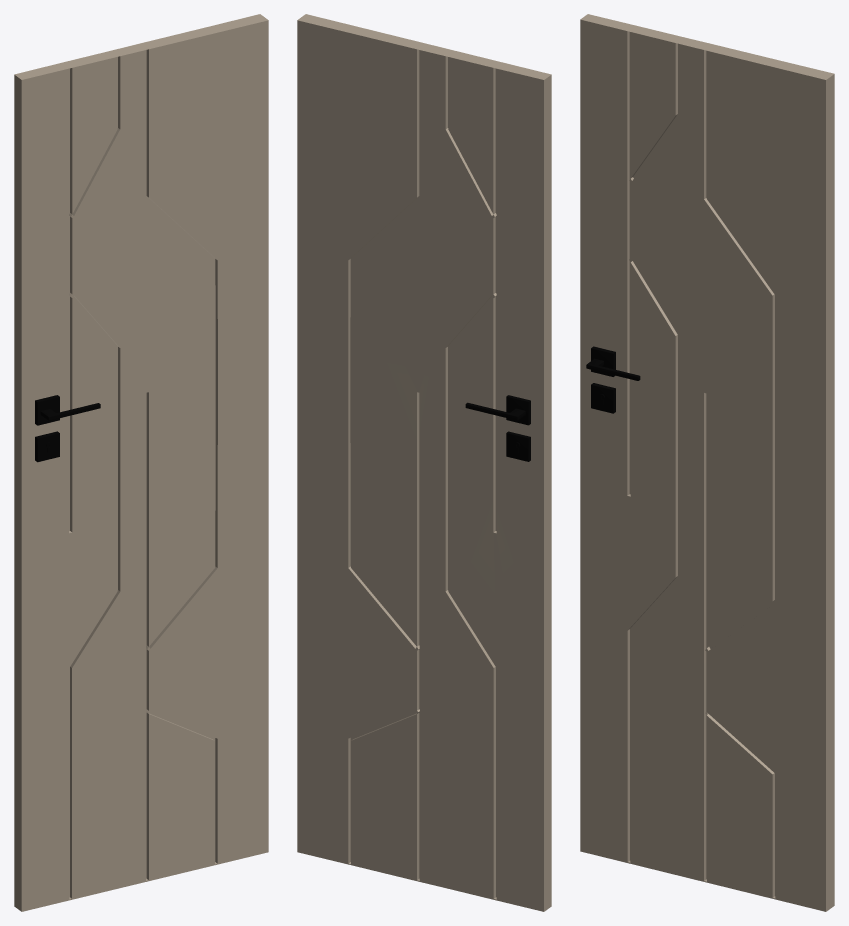
Rendered from RP_2_full2_door.glb.
The picture shows the model from 3 angles, left to right: view 1: azimuth 30°, elevation 25°; view 2: azimuth 150°, elevation 25°; view 3: azimuth 330°, elevation 25°; orthographic projection.
Visible parts, largest first — view 1: RP_2__2_door_.001; view 2: RP_2__2_door_.001; view 3: RP_2__2_door_.001.
Part boxes in pixels (x1,y1,x2,y2): RP_2__2_door_.001: (14,14,268,911); RP_2__2_door_.001: (297,14,551,911); RP_2__2_door_.001: (580,14,834,911).
Bounding box in the file's own units: 0.5515 × 1.78 × 0.1089.
Materials: 1 (1 with a texture image).
